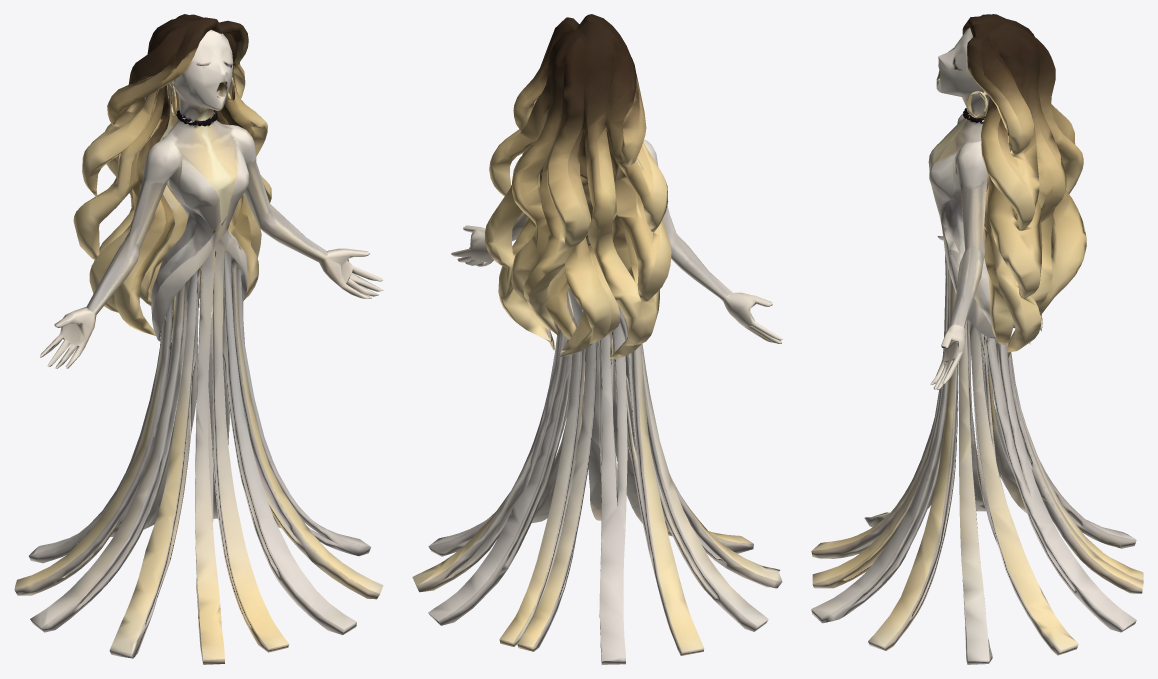
File: voz.glb
3 views of the same model, side by side, from view 1: azimuth 30°, elevation 25°; view 2: azimuth 150°, elevation 25°; view 3: azimuth 270°, elevation 25° (orthographic).
Visible parts, largest first — view 1: Malla; view 2: Malla; view 3: Malla.
Part boxes in pixels (x1,y1,x2,y2): Malla: (14,14,383,664); Malla: (412,14,782,664); Malla: (811,14,1143,664).
Bounding box in the file's own units: 1.49 × 2.4 × 1.27.
1 material, 1 textured.
